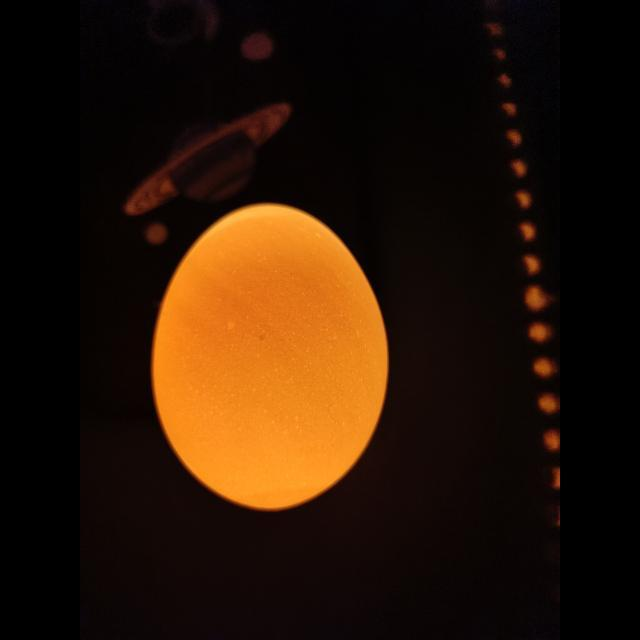AA - Premium: (153, 204, 388, 510), (276, 299, 279, 301)
